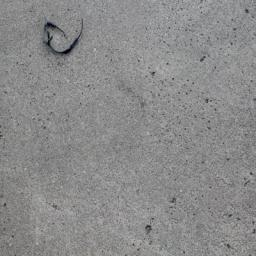FOD: (39, 15, 89, 60)
